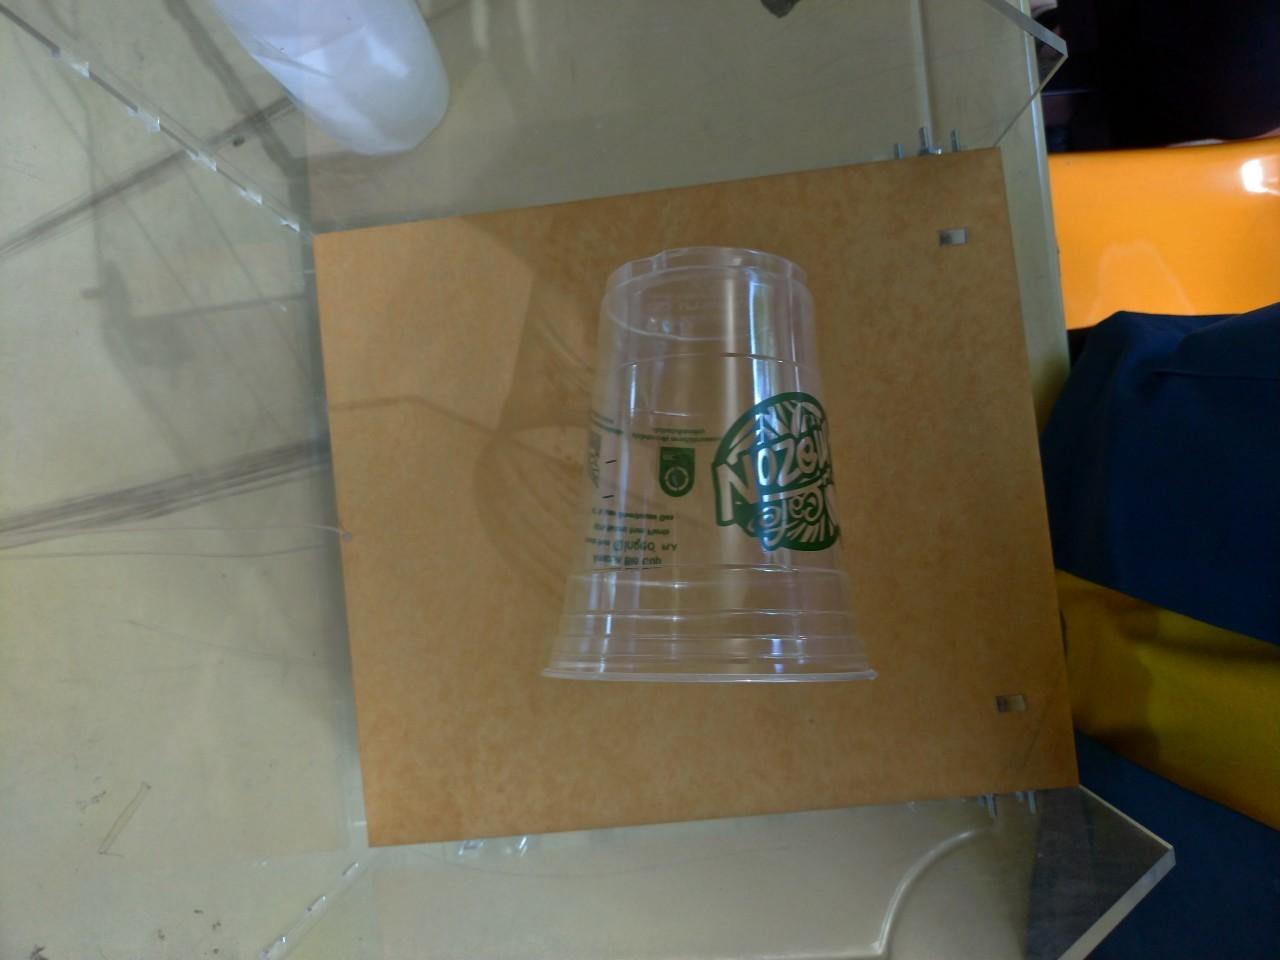PlasticCup: (537, 243, 880, 686)
